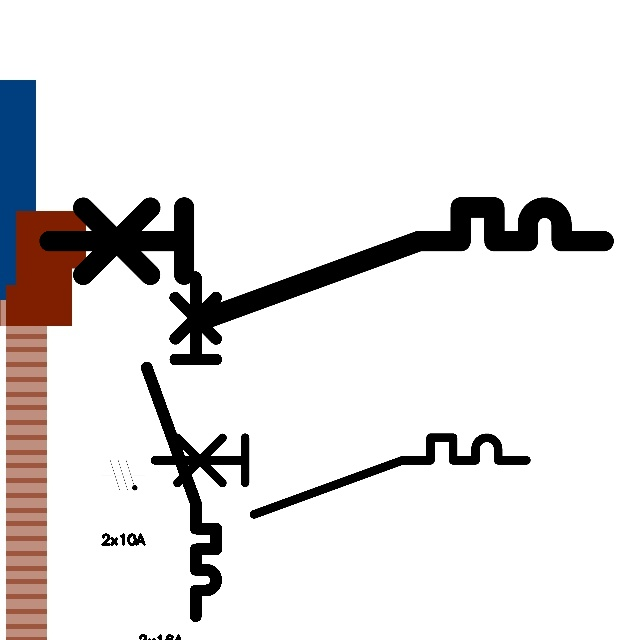interruptor_termomagnetico: (35, 193, 618, 335), (145, 428, 536, 523), (138, 268, 225, 624)
